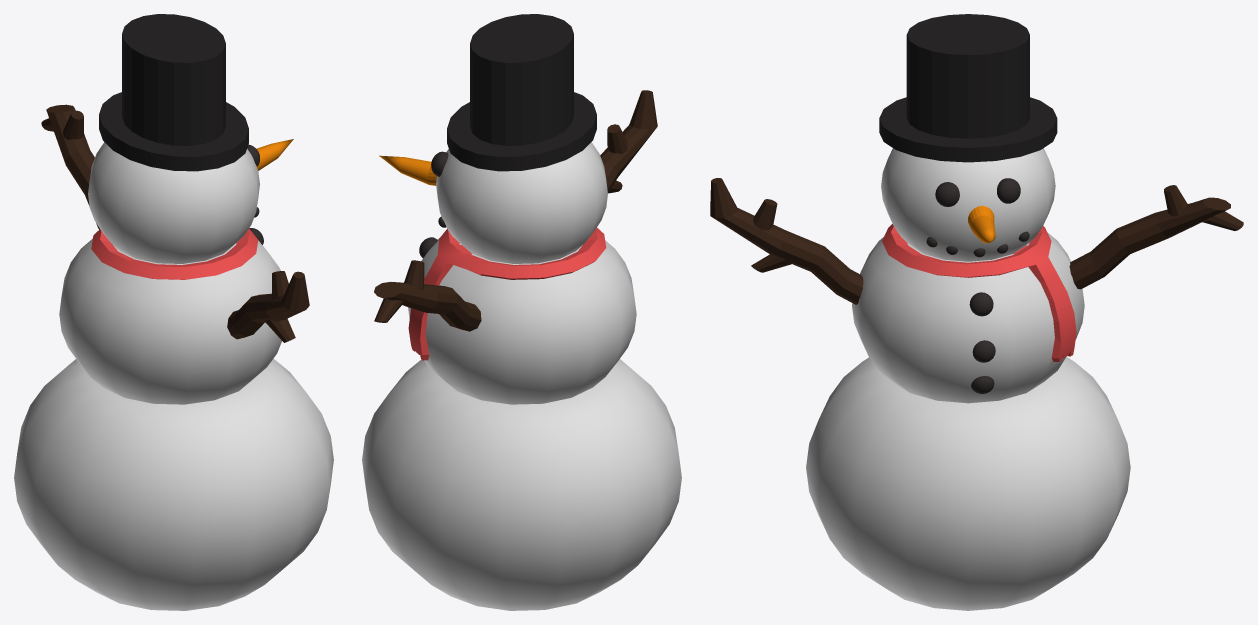
The model's file is SnowmanFBX.fbx.
3 views of the same model, side by side, from view 1: azimuth 30°, elevation 25°; view 2: azimuth 150°, elevation 25°; view 3: azimuth 270°, elevation 25° (orthographic).
Visible parts, largest first — view 1: Model; view 2: Model; view 3: Model.
Part boxes in pixels (box(x1,y1,x2,y2)): Model: box(14, 14, 333, 610); Model: box(362, 14, 681, 610); Model: box(710, 14, 1243, 610).
Size of the model in its own units: 4.63 by 8.46 by 7.6.
